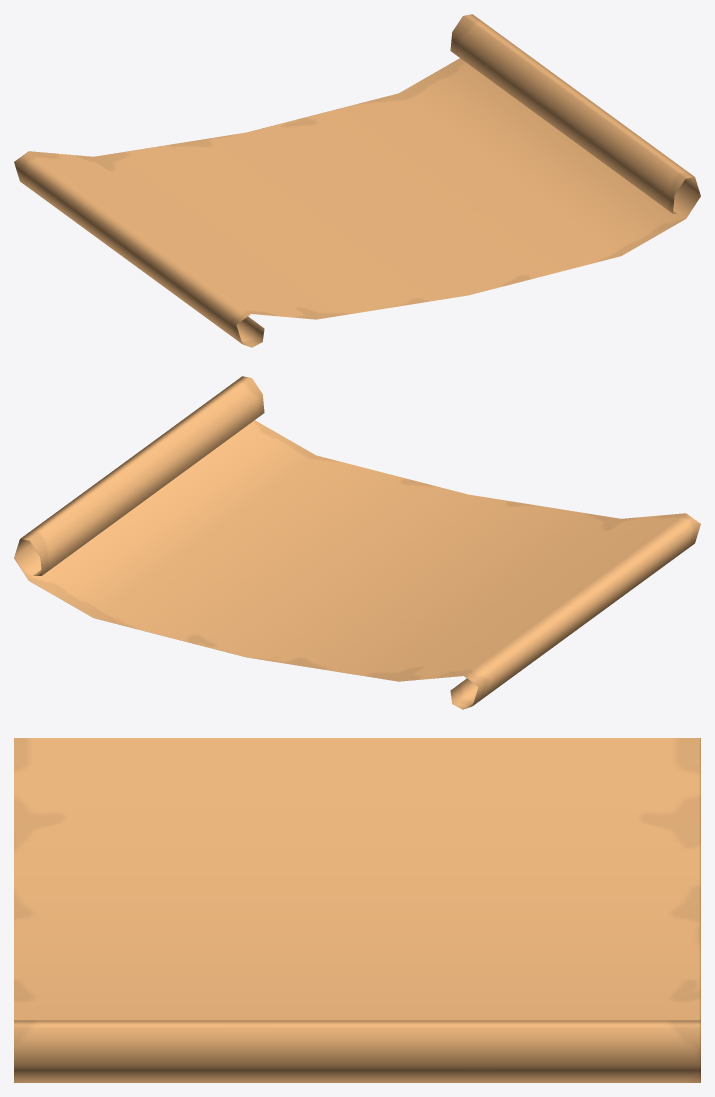
The model's file is detail_scroll.glb.
3 renders of one model, top to bottom at view 1: azimuth 30°, elevation 25°; view 2: azimuth 150°, elevation 25°; view 3: azimuth 270°, elevation 25°, orthographic. The views are drawn at different scales.
Visible parts, largest first — view 1: pPlane36; view 2: pPlane36; view 3: pPlane36.
Boxes of the visible parts, x1,y1,x2,y2 form: pPlane36: [14, 14, 700, 347]; pPlane36: [14, 376, 700, 709]; pPlane36: [14, 738, 700, 1082].
Size of the model in its own units: 2.31 by 0.3024 by 1.91.
1 material, 1 textured.
